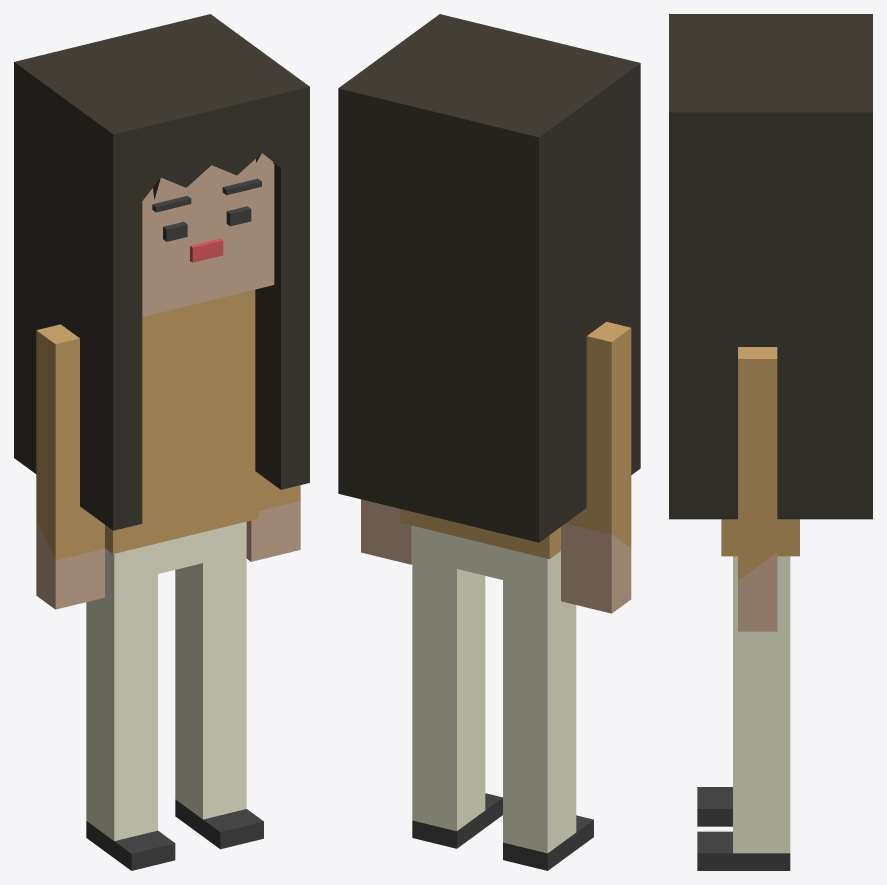
The model's file is customer4.fbx.
3 renders of one model, left to right at view 1: azimuth 30°, elevation 25°; view 2: azimuth 150°, elevation 25°; view 3: azimuth 270°, elevation 25°, orthographic. The views are drawn at different scales.
Parts seen in each view (by area): view 1: customer; view 2: customer; view 3: customer.
Boxes of the visible parts, x1=… form: customer: x1=14, y1=14, x2=309, y2=870; customer: x1=338, y1=14, x2=640, y2=870; customer: x1=669, y1=14, x2=872, y2=870.
Size of the model in its own units: 7.13 by 20.97 by 5.
